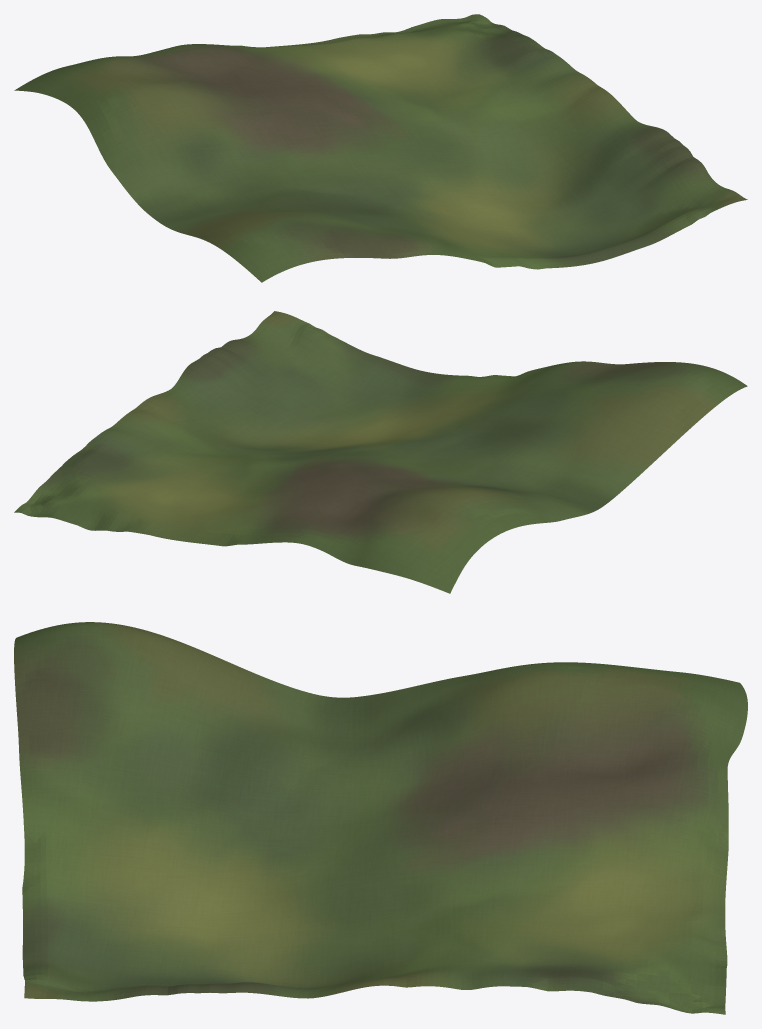
Rendered from land.obj.
3 views of the same model, one above another, from view 1: azimuth 30°, elevation 25°; view 2: azimuth 150°, elevation 25°; view 3: azimuth 270°, elevation 25° (orthographic). The views are drawn at different scales.
Parts seen in each view (by area): view 1: Plane; view 2: Plane; view 3: Plane.
Boxes of the visible parts, x1=… form: Plane: x1=14, y1=14, x2=747, y2=282; Plane: x1=14, y1=311, x2=747, y2=593; Plane: x1=14, y1=622, x2=747, y2=1014.
Size of the model in its own units: 17.17 by 3.23 by 16.87.
